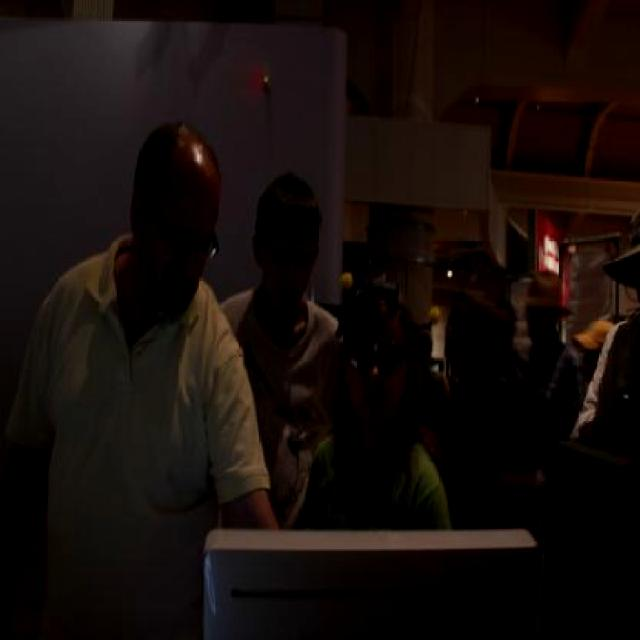face_nomask: (141, 216, 221, 302), (344, 338, 407, 407), (259, 236, 312, 290)
glasses: (338, 345, 413, 380)
head_nohelmet: (245, 172, 330, 250), (327, 292, 425, 353), (138, 129, 225, 191)
person: (24, 126, 270, 619), (206, 170, 349, 499), (299, 292, 455, 553)
